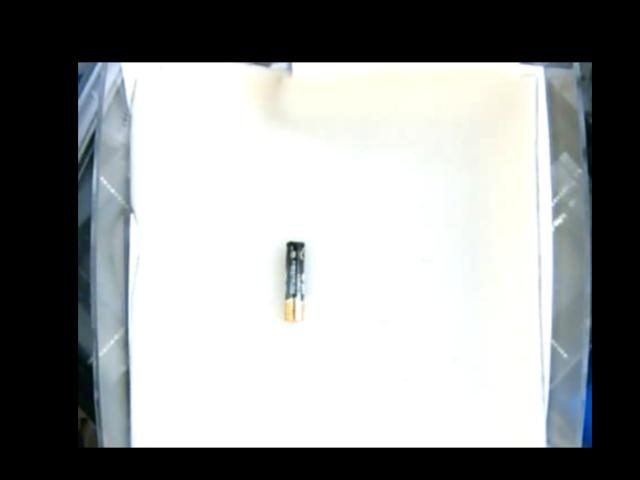Battery: (283, 241, 305, 324)
